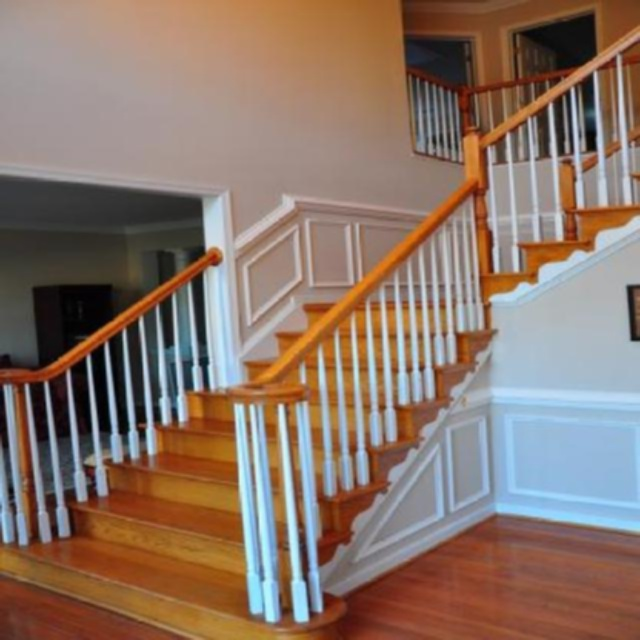stair: (0, 207, 640, 640)
